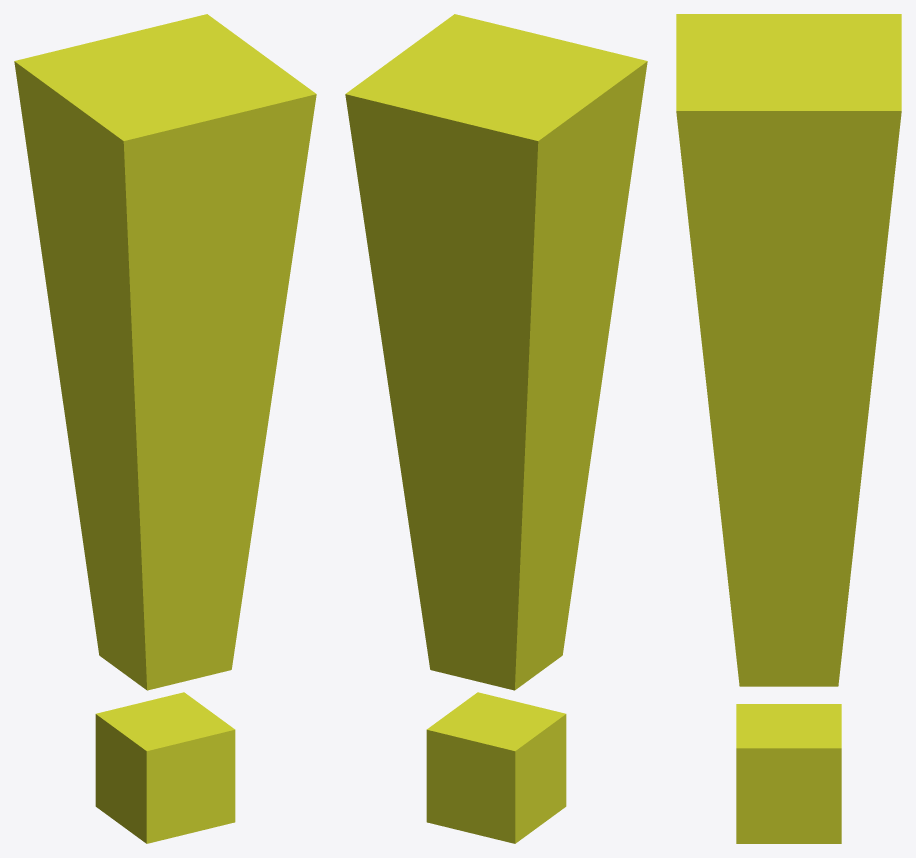
File: Exclamation.fbx
3 renders of one model, left to right at view 1: azimuth 30°, elevation 25°; view 2: azimuth 150°, elevation 25°; view 3: azimuth 270°, elevation 25°, orthographic. The views are drawn at different scales.
Parts seen in each view (by area): view 1: Cube.013; view 2: Cube.013; view 3: Cube.013.
Boxes of the visible parts, box(x1,y1,x2,y2) form: Cube.013: box(14, 14, 316, 843); Cube.013: box(345, 14, 647, 843); Cube.013: box(676, 14, 901, 843).
Size of the model in its own units: 69.04 by 252 by 67.81.
